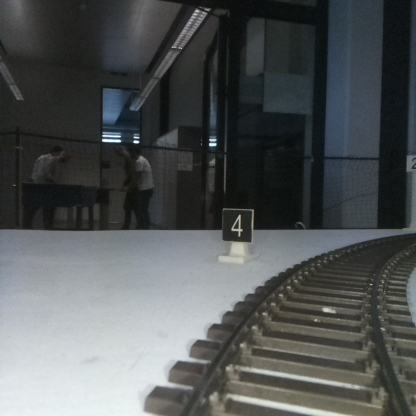black-stop-4: (222, 209, 253, 265)
